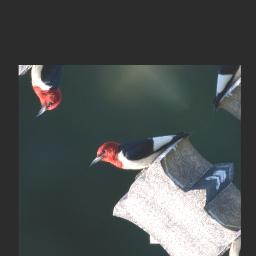Woodpecker: (81, 91, 200, 204)
